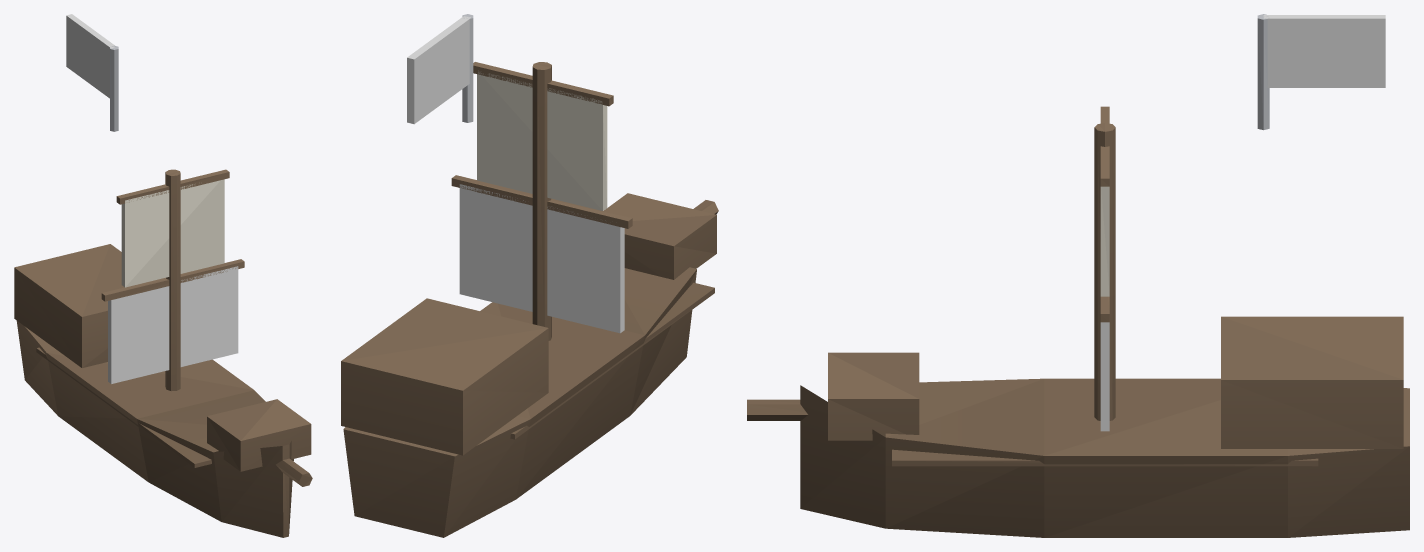
Rendered from Great Admiral.glb.
3 views of the same model, side by side, from view 1: azimuth 30°, elevation 25°; view 2: azimuth 150°, elevation 25°; view 3: azimuth 270°, elevation 25° (orthographic). The views are drawn at different scales.
Visible parts, largest first — view 1: Body; view 2: Body; view 3: Body.
Boxes of the visible parts, x1,y1,x2,y2 form: Body: [14, 14, 312, 537]; Body: [341, 14, 718, 537]; Body: [747, 14, 1409, 537].
Bounding box in the file's own units: 0.2851 × 0.71 × 0.87.
